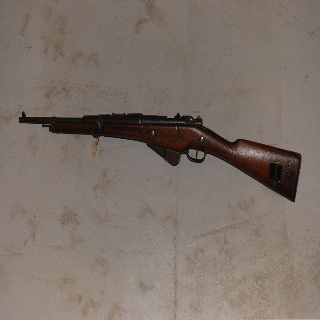rifle: (18, 107, 305, 204)
